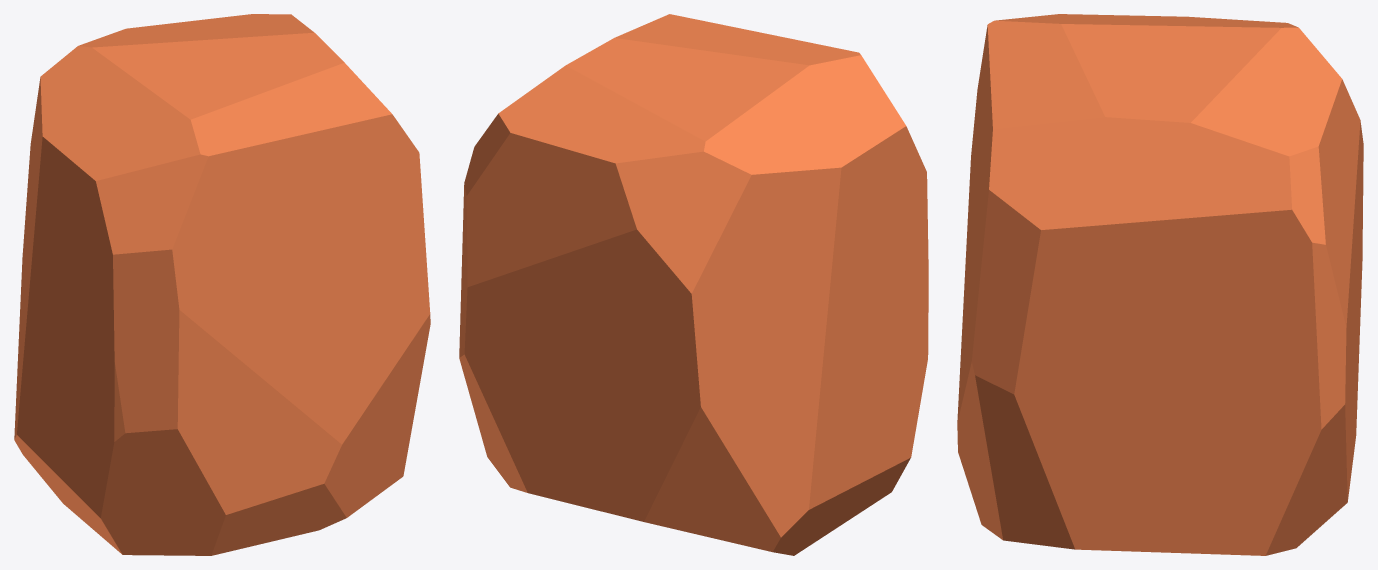
The picture shows the model from 3 angles, left to right: view 1: azimuth 30°, elevation 25°; view 2: azimuth 150°, elevation 25°; view 3: azimuth 270°, elevation 25°; orthographic projection. The views are drawn at different scales.
Visible parts, largest first — view 1: Rock_7; view 2: Rock_7; view 3: Rock_7.
Boxes of the visible parts, bbox=[...] form: Rock_7: bbox=[14, 14, 430, 555]; Rock_7: bbox=[459, 14, 928, 555]; Rock_7: bbox=[957, 14, 1363, 555].
Bounding box in the file's own units: 725 × 895 × 715.
